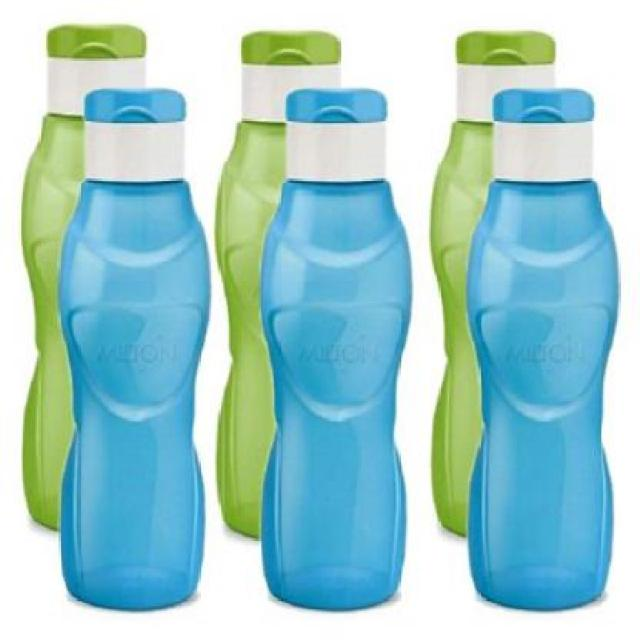Drinking: (422, 18, 618, 616), (66, 90, 220, 612), (276, 87, 412, 616)
